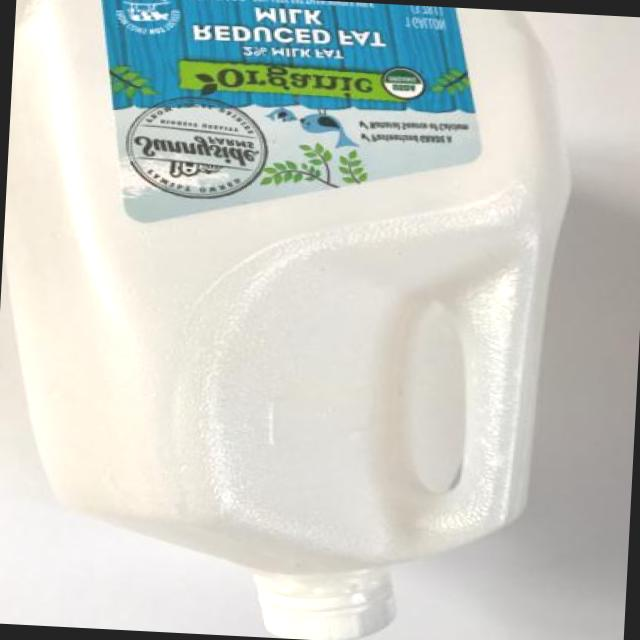plastic: (0, 0, 568, 637)
